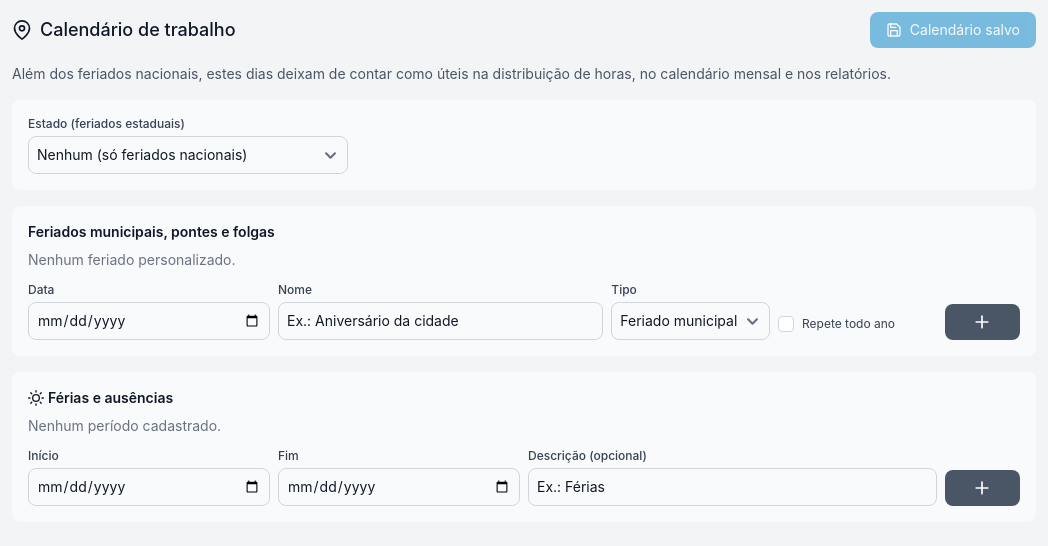
Scenario: WorkCalendarSettings › recusa férias com fim antes do início
Expected: the dropdown labelled "Estado (feriados estaduais)" is shown, 28,136 -> 348,174
Type "2026-07-20" into the date field labelled "Início" at (149, 487), box 28,468 -> 270,506
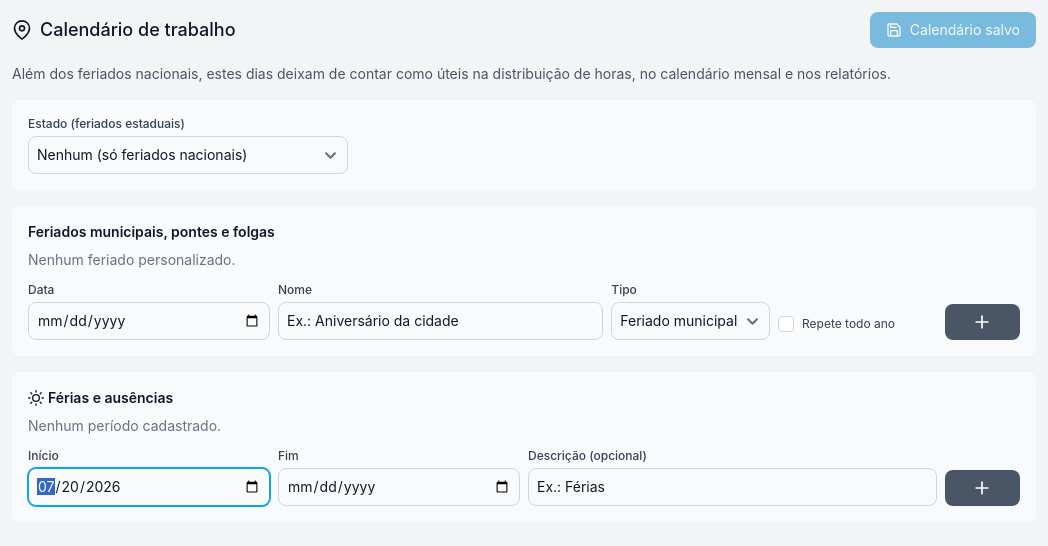
Type "2026-07-10" into the date field labelled "Fim" at (399, 487), box 278,468 -> 520,506
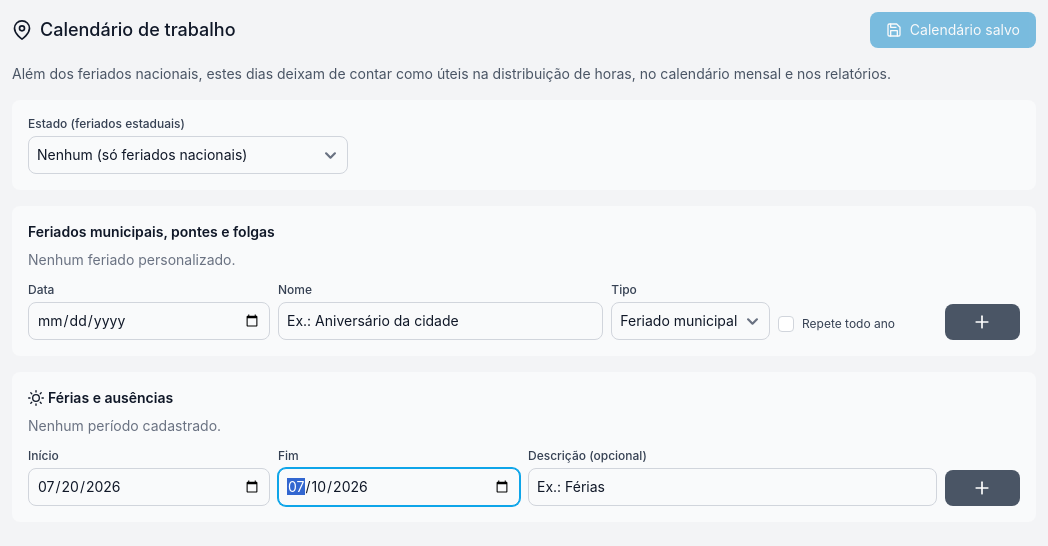
Click the button named "Adicionar ausência" at (982, 488), box 945,470 -> 1020,506
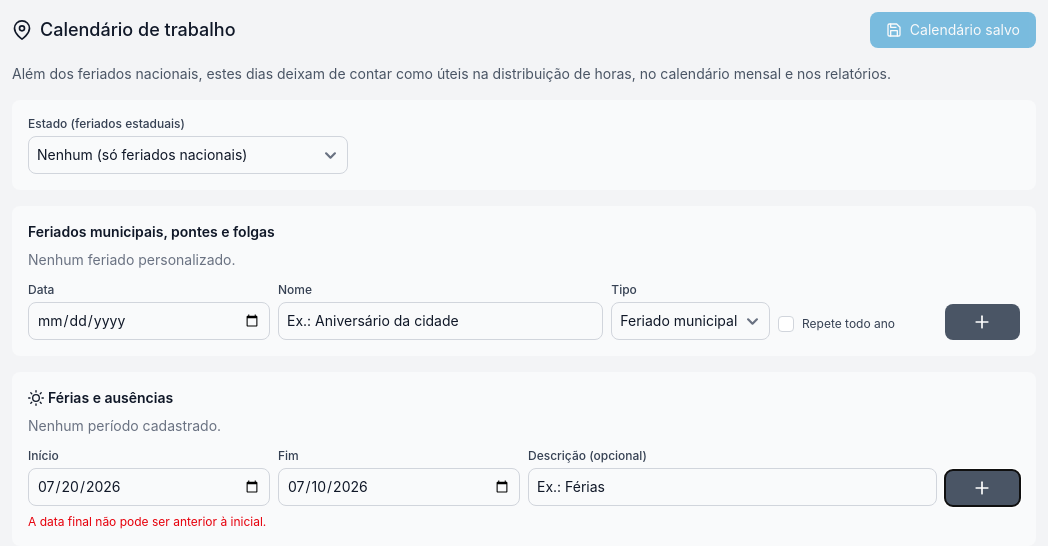
Result: the message reads "A data final não pode ser anterior à inicial." at 28,514 -> 266,529
